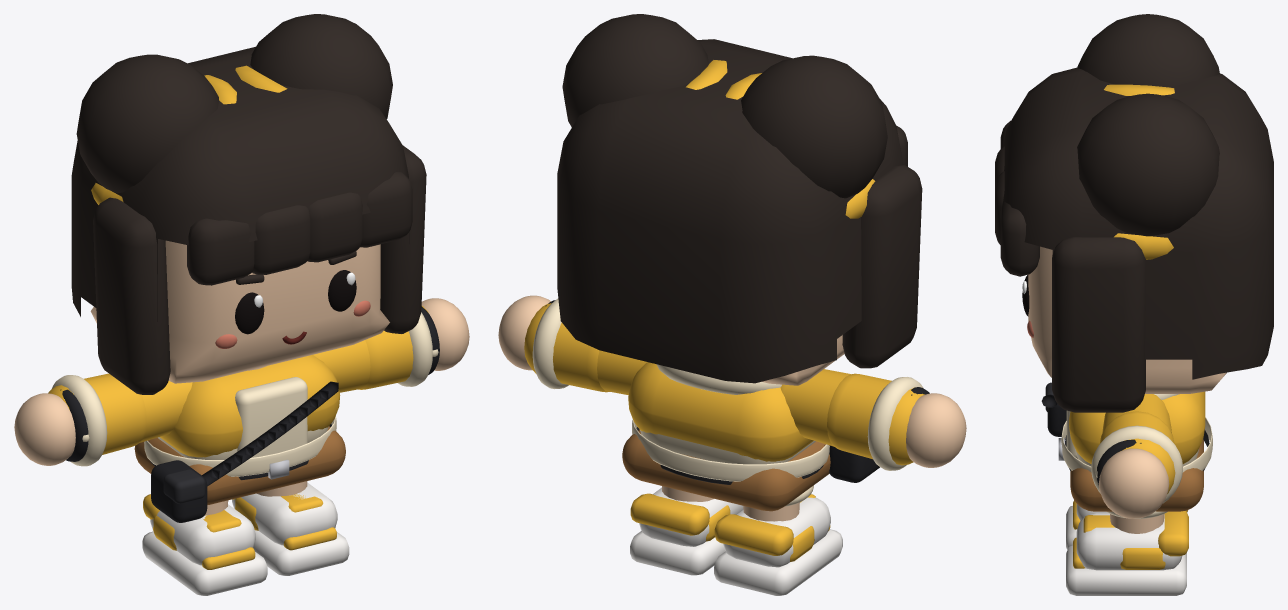
File: mika_chibi_v02.glb
3 renders of one model, left to right at view 1: azimuth 30°, elevation 25°; view 2: azimuth 150°, elevation 25°; view 3: azimuth 270°, elevation 25°, orthographic. The views are drawn at different scales.
Parts seen in each view (by area): view 1: Hair_Cap, Hair_Buns, Head, Hair_Locks, Hair_Bangs, Jacket, Shoe_R, Shoe_L, Arm_R, Arm_L, Hand_R, CropTop (+6 smaller); view 2: Hair_Cap, Hair_Buns, Jacket, Hair_Locks, Arm_R, Shoe_R, Shoe_L, Arm_L, Shorts, Hand_R, Hand_L, Torso (+5 smaller); view 3: Hair_Cap, Hair_Buns, Hair_Locks, Shoe_L, Jacket, Head, Hand_L, Arm_L, Hair_Bangs, Shorts, Hair_Ties, Leg_L (+2 smaller).
Boxes of the visible parts, x1,y1,x2,y2 form: Hair_Cap: [71, 46, 409, 321]; Hair_Buns: [76, 14, 392, 193]; Head: [90, 240, 389, 383]; Hair_Locks: [93, 145, 426, 394]; Hair_Bangs: [187, 171, 412, 285]; Jacket: [144, 354, 340, 476]; Shoe_R: [142, 494, 267, 595]; Shoe_L: [232, 482, 349, 575]; Arm_R: [48, 373, 192, 466]; Arm_L: [313, 306, 432, 392]; Hand_R: [14, 389, 89, 465]; CropTop: [235, 377, 307, 457]; Hair_Cap: [557, 39, 903, 383]; Hair_Buns: [562, 14, 887, 198]; Jacket: [628, 362, 829, 481]; Hair_Locks: [842, 165, 922, 368]; Arm_R: [780, 369, 924, 470]; Shoe_R: [714, 494, 842, 595]; Shoe_L: [630, 487, 743, 575]; Arm_L: [524, 298, 647, 395]; Shorts: [622, 429, 830, 511]; Hand_R: [906, 387, 966, 467]; Hand_L: [498, 295, 555, 370]; Torso: [640, 430, 815, 464]; Hair_Cap: [1000, 67, 1273, 379]; Hair_Buns: [1077, 14, 1219, 236]; Hair_Locks: [1052, 237, 1145, 412]; Shoe_L: [1066, 511, 1188, 595]; Jacket: [1061, 391, 1212, 472]; Head: [1028, 246, 1226, 393]; Hand_L: [1095, 439, 1169, 518]; Arm_L: [1091, 394, 1182, 503]; Hair_Bangs: [995, 120, 1039, 276]; Shorts: [1070, 439, 1203, 518]; Hair_Ties: [1104, 84, 1174, 259]; Leg_L: [1110, 514, 1164, 533].
Bounding box in the file's own units: 0.644 × 0.7088 × 0.356.
